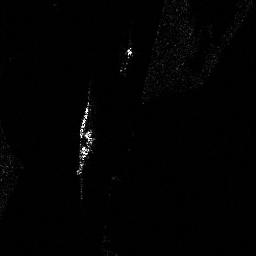ship: (76, 131, 96, 174), (77, 102, 91, 138), (119, 46, 132, 73)
